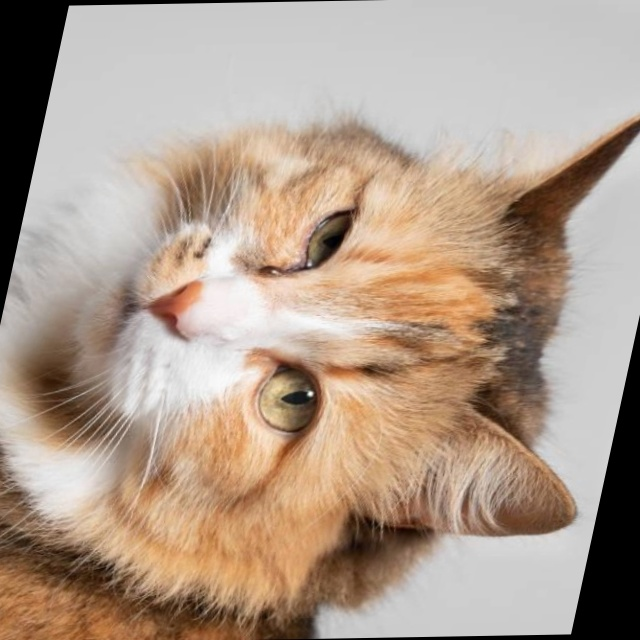eye_infection: (259, 216, 361, 280)
